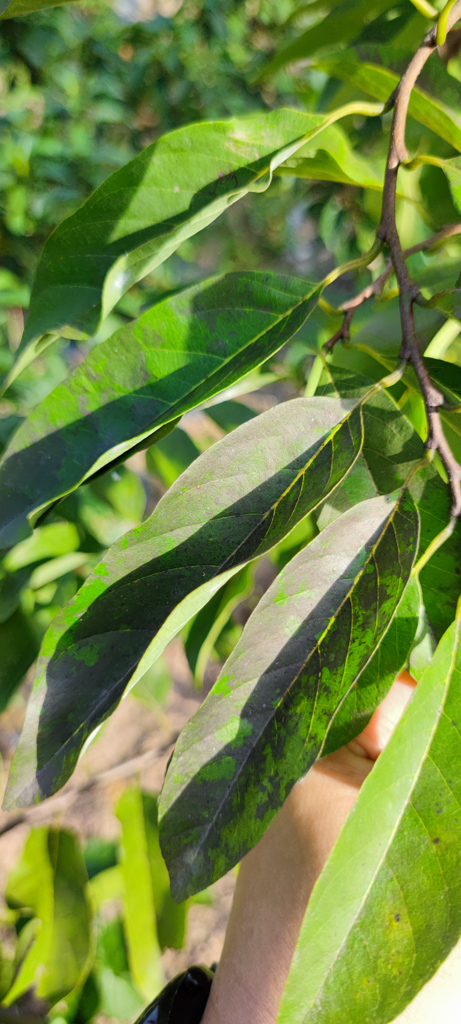Sooty mold: (154, 478, 420, 904), (8, 628, 143, 811)
